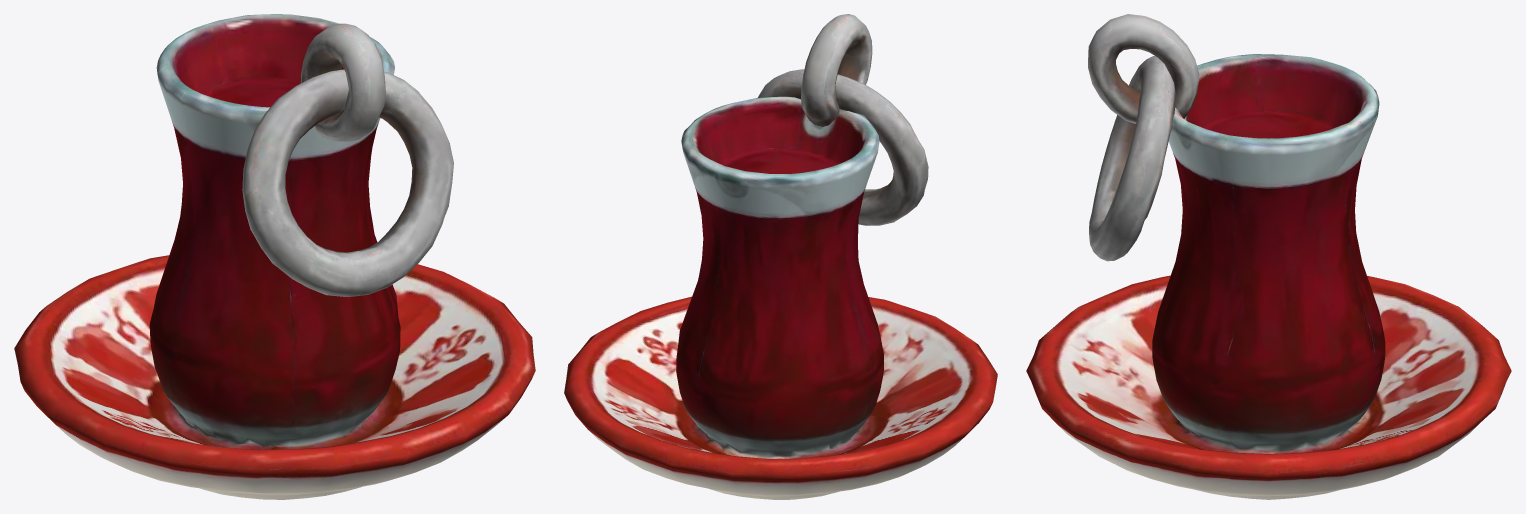
Rendered from sus_cay.glb.
3 renders of one model, left to right at view 1: azimuth 30°, elevation 25°; view 2: azimuth 150°, elevation 25°; view 3: azimuth 270°, elevation 25°, orthographic. The views are drawn at different scales.
Parts seen in each view (by area): view 1: sus; view 2: sus; view 3: sus.
Boxes of the visible parts, x1,y1,x2,y2 form: sus: (14, 14, 535, 499); sus: (564, 14, 997, 499); sus: (1026, 14, 1511, 499).
Size of the model in its own units: 0.034 by 0.0338 by 0.034.
Materials: 1 (1 with a texture image).
